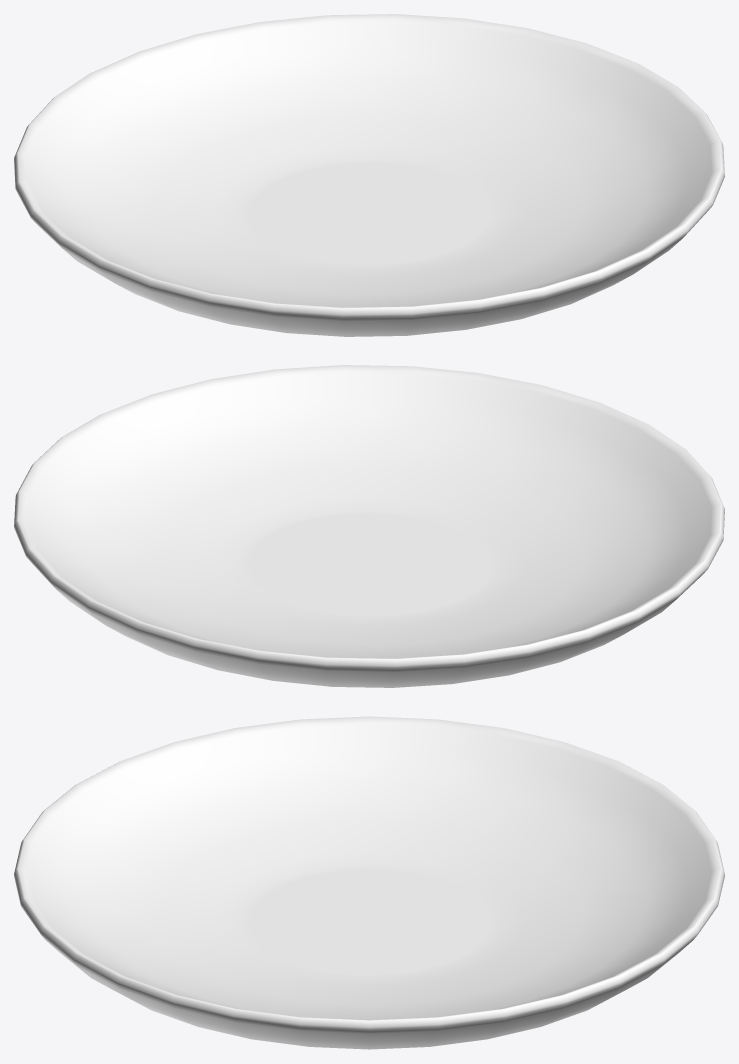
The model's file is Dish 1.FBX.
3 renders of one model, top to bottom at view 1: azimuth 30°, elevation 25°; view 2: azimuth 150°, elevation 25°; view 3: azimuth 270°, elevation 25°, orthographic.
Parts seen in each view (by area): view 1: dish 1; view 2: dish 1; view 3: dish 1.
Boxes of the visible parts, left/top/right/bottom form: dish 1: left=14, top=14, right=724, bottom=336; dish 1: left=14, top=365, right=724, bottom=687; dish 1: left=14, top=716, right=724, bottom=1049.
Bounding box in the file's own units: 28.32 × 3.34 × 27.67.
1 material, 1 textured.
